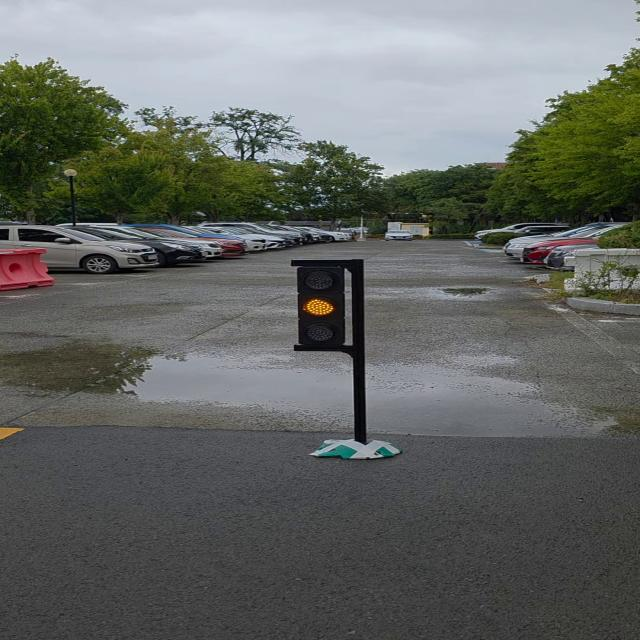yellow: (296, 262, 353, 350)
